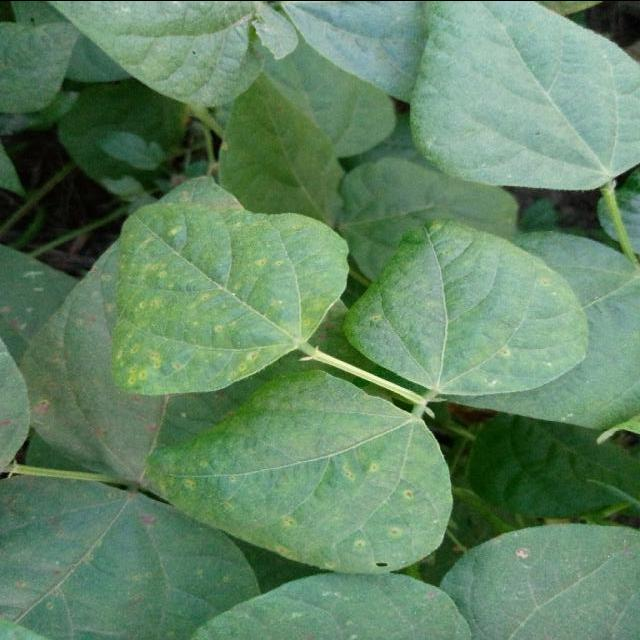hawar: (212, 428, 407, 554), (93, 245, 207, 397)
mozaik: (392, 264, 538, 384)
